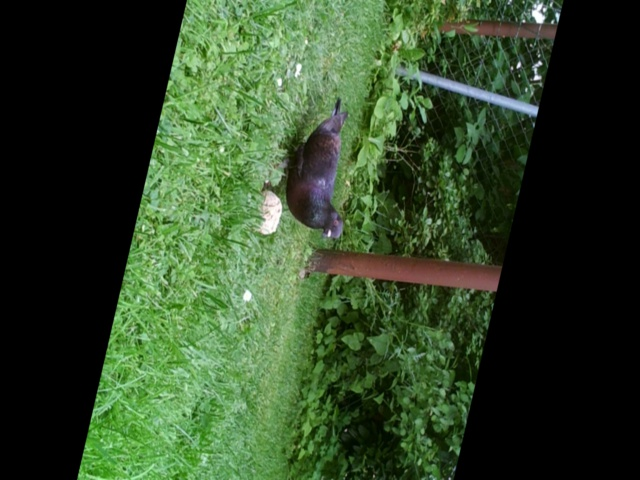Pigeon: (272, 96, 355, 247)
